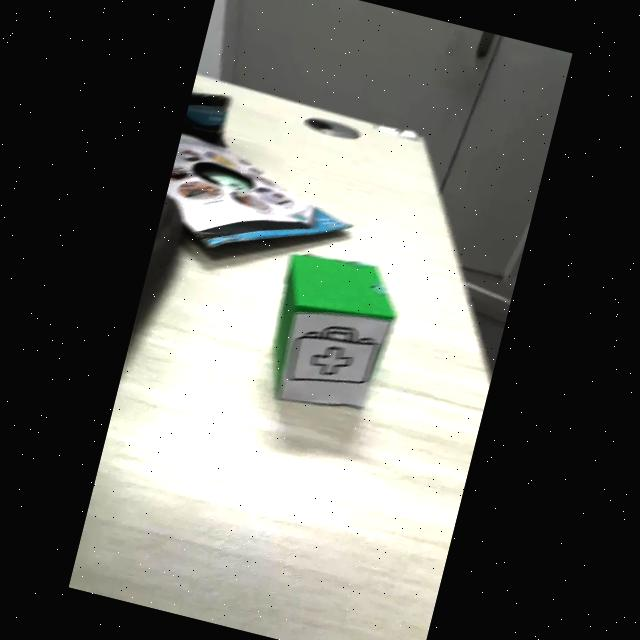Medkit: (287, 326, 380, 387)
